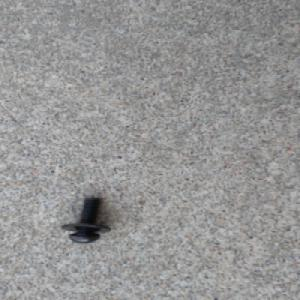BoltWasher: (59, 196, 112, 243)
